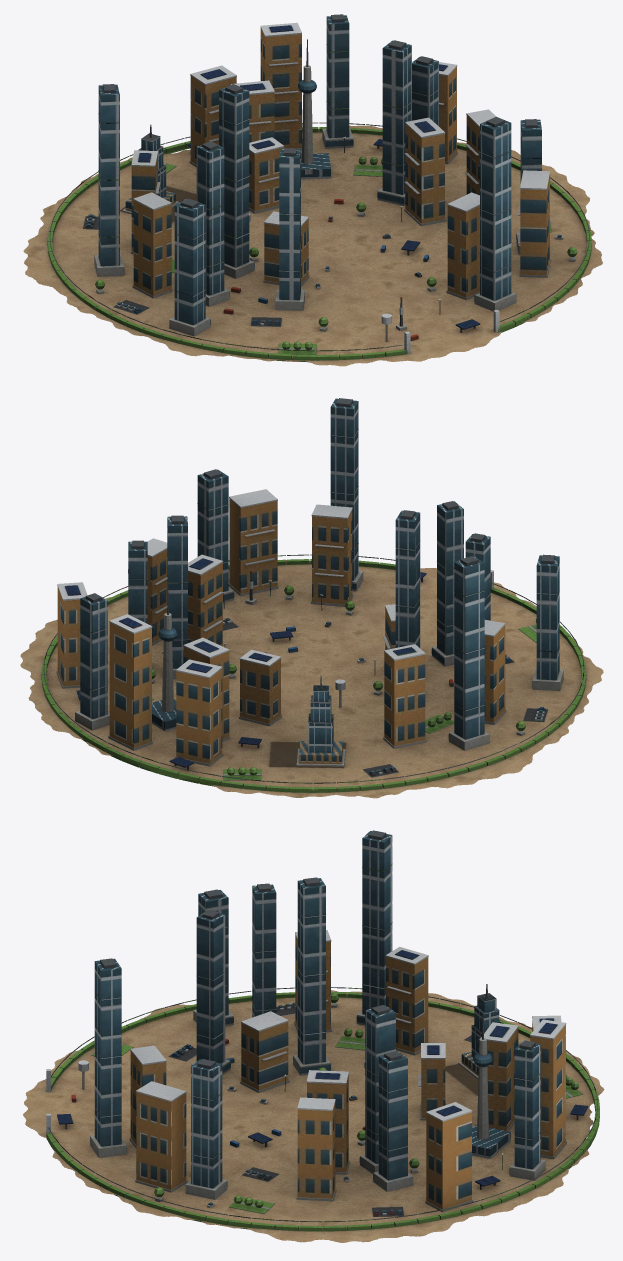
Rendered from information-town-big-b-indic.glb.
The picture shows the model from 3 angles, top to bottom: view 1: azimuth 30°, elevation 25°; view 2: azimuth 150°, elevation 25°; view 3: azimuth 270°, elevation 25°; orthographic projection. The views are drawn at different scales.
Parts seen in each view (by area): view 1: LOD0; view 2: LOD0; view 3: LOD0.
Boxes of the visible parts, <box> form: LOD0: <box>23,14,602,366</box>; LOD0: <box>20,398,603,798</box>; LOD0: <box>23,830,604,1242</box>.
Size of what is drawn, in the model's own units: 7.97 by 2.72 by 7.73.
Materials: 3 (3 with a texture image).
